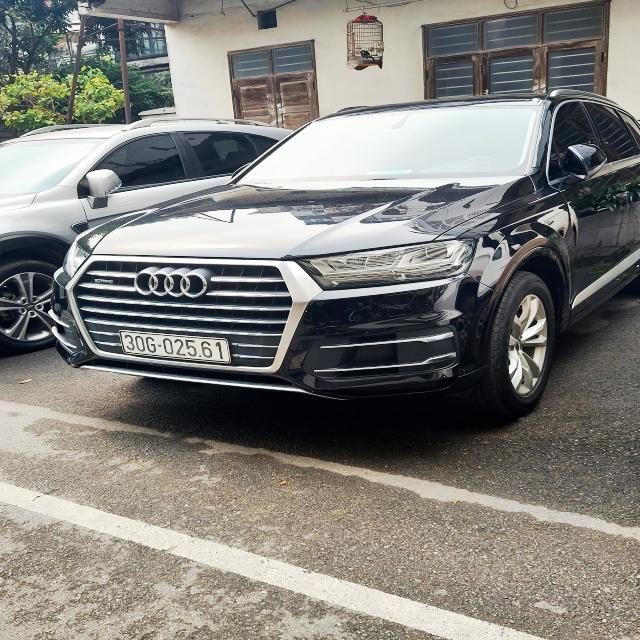license_plate: (119, 333, 231, 363)
